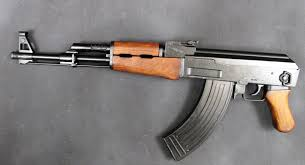gun: (9, 30, 305, 159)
